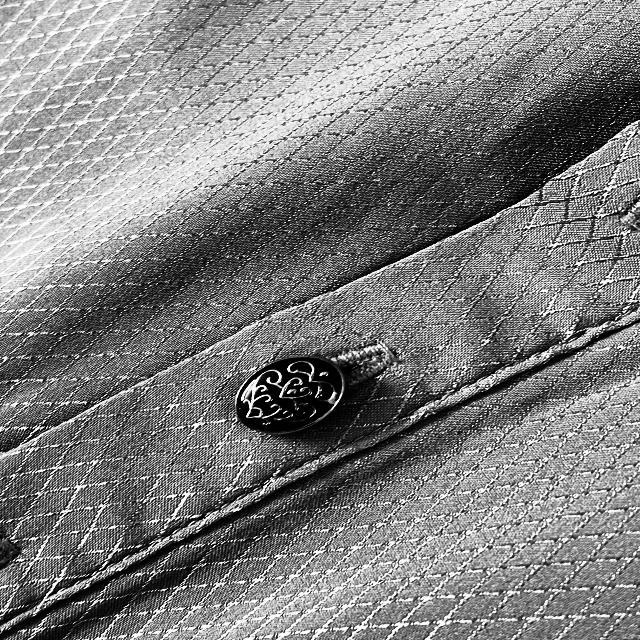Button_hike: (227, 335, 428, 432)
